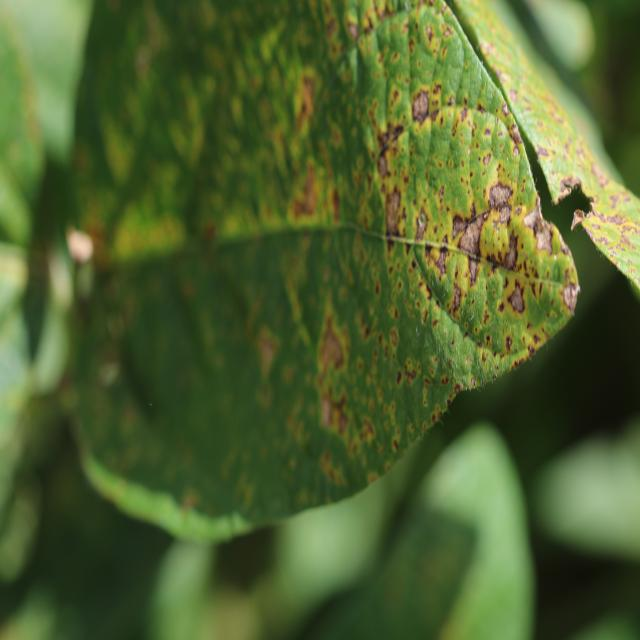Bacterial_Blight: (318, 318, 346, 373), (457, 215, 486, 257), (294, 170, 318, 217), (323, 392, 349, 435), (66, 227, 95, 264), (409, 78, 431, 123), (296, 73, 316, 119), (384, 186, 401, 238), (258, 333, 278, 376), (488, 182, 514, 209), (535, 223, 554, 256), (591, 164, 614, 190), (562, 282, 581, 313), (504, 232, 519, 271), (434, 244, 451, 278), (507, 284, 525, 314), (568, 207, 588, 233), (604, 211, 633, 228), (414, 210, 428, 244), (319, 451, 336, 478), (201, 221, 217, 247), (181, 490, 199, 513), (377, 149, 390, 179), (390, 121, 405, 145), (509, 122, 523, 146), (450, 286, 462, 314), (360, 419, 375, 441), (359, 316, 372, 340), (331, 189, 341, 220), (560, 178, 578, 195), (404, 360, 416, 381), (347, 21, 359, 41), (494, 69, 507, 84), (425, 25, 435, 43), (536, 146, 551, 158), (389, 329, 398, 348), (424, 284, 434, 300), (560, 240, 570, 256), (443, 25, 454, 39), (460, 106, 469, 123), (501, 101, 510, 117), (482, 152, 492, 166), (508, 88, 518, 102), (505, 335, 513, 352), (447, 93, 456, 107), (438, 185, 445, 202), (430, 412, 439, 425), (477, 103, 487, 114), (483, 310, 490, 324), (445, 394, 452, 408), (392, 439, 399, 452), (396, 370, 402, 385), (374, 281, 380, 296), (453, 384, 461, 395), (441, 375, 449, 386), (288, 243, 297, 252), (498, 302, 505, 313), (463, 329, 470, 340), (533, 334, 540, 345), (484, 127, 492, 136), (470, 378, 477, 388), (485, 334, 491, 344), (411, 259, 416, 270), (434, 356, 439, 364), (465, 358, 470, 366), (470, 170, 474, 177)
Soybean: (67, 0, 640, 540)
